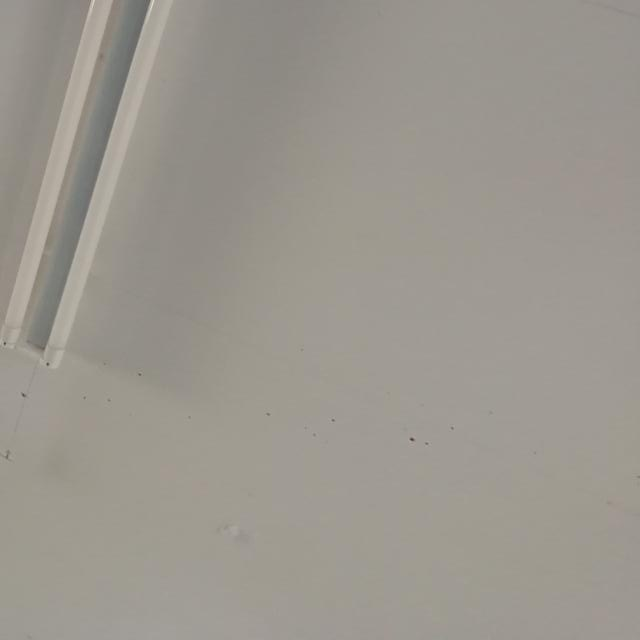fluorescent tube: (0, 0, 283, 383)
